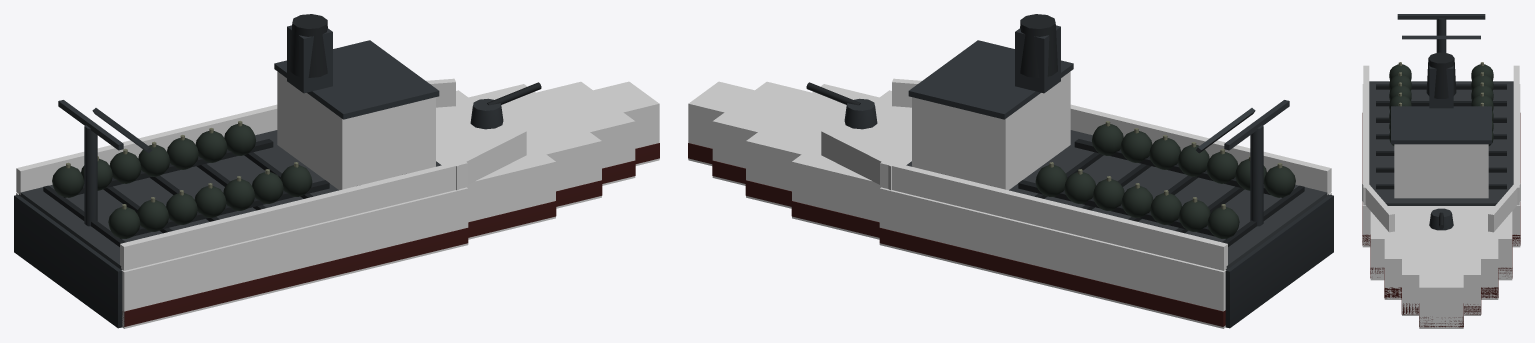
The model's file is m_minel_a8008bd0.glb.
The picture shows the model from 3 angles, left to right: view 1: azimuth 30°, elevation 25°; view 2: azimuth 150°, elevation 25°; view 3: azimuth 270°, elevation 25°; orthographic projection. The views are drawn at different scales.
Parts seen in each view (by area): view 1: mesh; view 2: mesh; view 3: mesh.
Boxes of the visible parts, x1,y1,x2,y2 form: mesh: (14, 14, 659, 328); mesh: (688, 14, 1333, 328); mesh: (1362, 14, 1520, 328).
Bounding box in the file's own units: 55.51 × 19.2 × 18.14.
